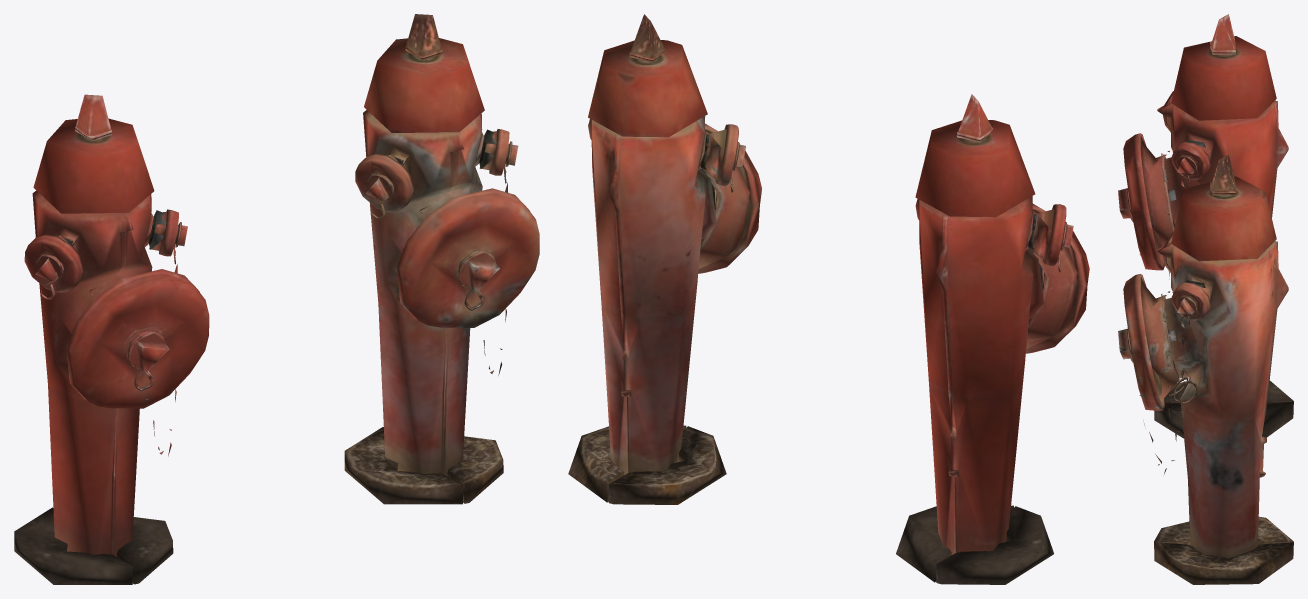
File: fire_hydrant.glb
The picture shows the model from 3 angles, left to right: view 1: azimuth 30°, elevation 25°; view 2: azimuth 150°, elevation 25°; view 3: azimuth 270°, elevation 25°; orthographic projection. The views are drawn at different scales.
Visible parts, largest first — view 1: fire_hydrant_aged, fire_hydrant, fire_hydrant_cap_01, fire_hydrant_cap_01_aged, fire_hydrant_cap_03, fire_hydrant_cap_03_aged, fire_hydrant_cap_02_aged, fire_hydrant_cap_02, fire_hydrant_chain, fire_hydrant_chain_aged; view 2: fire_hydrant, fire_hydrant_aged, fire_hydrant_cap_01, fire_hydrant_cap_01_aged, fire_hydrant_cap_03, fire_hydrant_cap_03_aged; view 3: fire_hydrant_aged, fire_hydrant, fire_hydrant_cap_01, fire_hydrant_cap_01_aged, fire_hydrant_cap_02, fire_hydrant_cap_02_aged, fire_hydrant_chain_aged.
Part boxes in pixels (x1,y1,x2,y2): fire_hydrant_aged: (344, 14, 503, 504); fire_hydrant: (14, 94, 173, 584); fire_hydrant_cap_01: (66, 269, 209, 408); fire_hydrant_cap_01_aged: (396, 188, 539, 327); fire_hydrant_cap_03: (24, 234, 83, 292); fire_hydrant_cap_03_aged: (355, 153, 414, 211); fire_hydrant_cap_02_aged: (489, 129, 518, 175); fire_hydrant_cap_02: (159, 209, 187, 256); fire_hydrant_chain: (39, 227, 177, 456); fire_hydrant_chain_aged: (370, 147, 508, 375); fire_hydrant: (896, 94, 1077, 584); fire_hydrant_aged: (568, 14, 749, 504); fire_hydrant_cap_01: (1025, 203, 1089, 353); fire_hydrant_cap_01_aged: (698, 123, 761, 273); fire_hydrant_cap_03: (1043, 204, 1073, 266); fire_hydrant_cap_03_aged: (715, 124, 745, 186); fire_hydrant_aged: (1141, 154, 1293, 584); fire_hydrant: (1141, 14, 1293, 438); fire_hydrant_cap_01: (1118, 133, 1164, 270); fire_hydrant_cap_01_aged: (1118, 274, 1164, 410); fire_hydrant_cap_02: (1171, 141, 1210, 180); fire_hydrant_cap_02_aged: (1171, 282, 1210, 320); fire_hydrant_chain_aged: (1139, 289, 1198, 474).
Bounding box in the file's own units: 0.8745 × 0.7992 × 0.3173.
2 materials, 2 textured.
